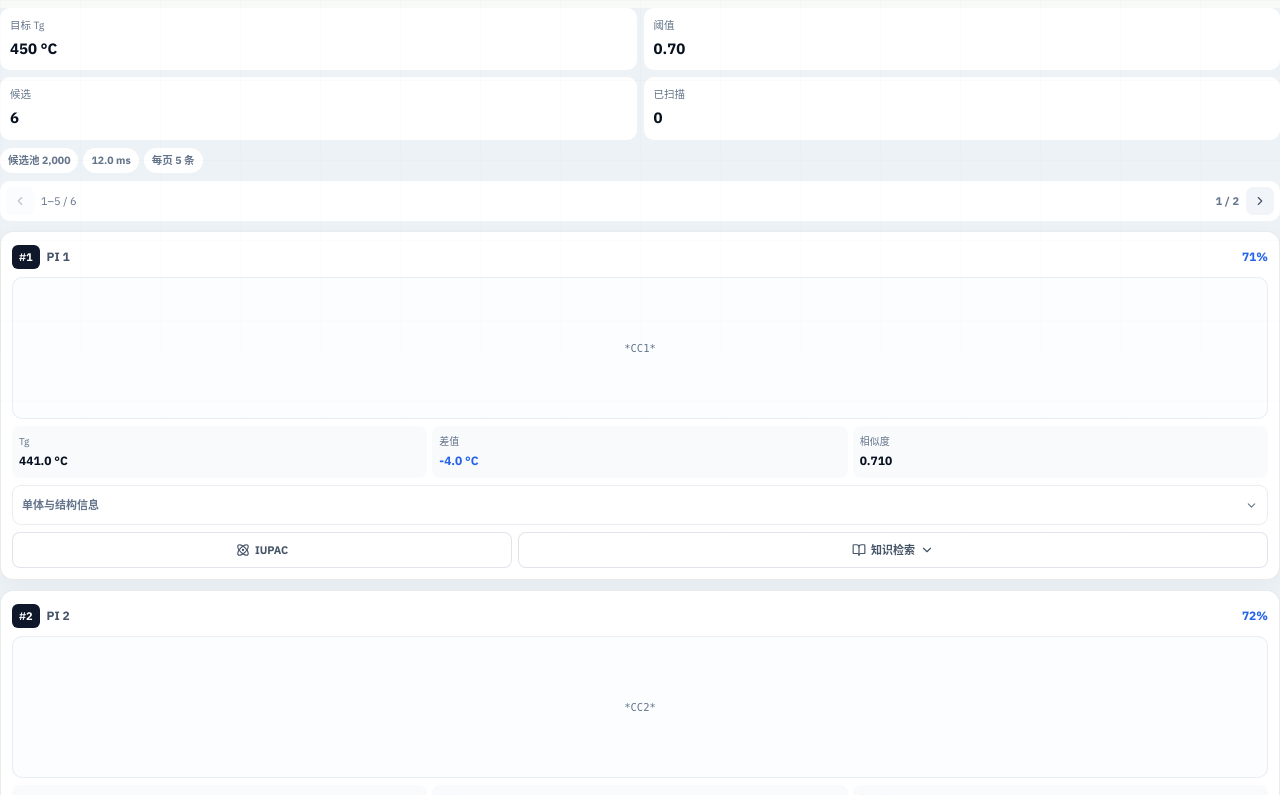
ReverseDesignResults drawer content › shows exactly five candidates per page and supports paging
Expected: the text "PI 1" is shown, [47,248,70,266]
Expected: the text "PI 6" is not shown
Click the button named "下一页" at (1260, 201), box [1246,187,1274,215]
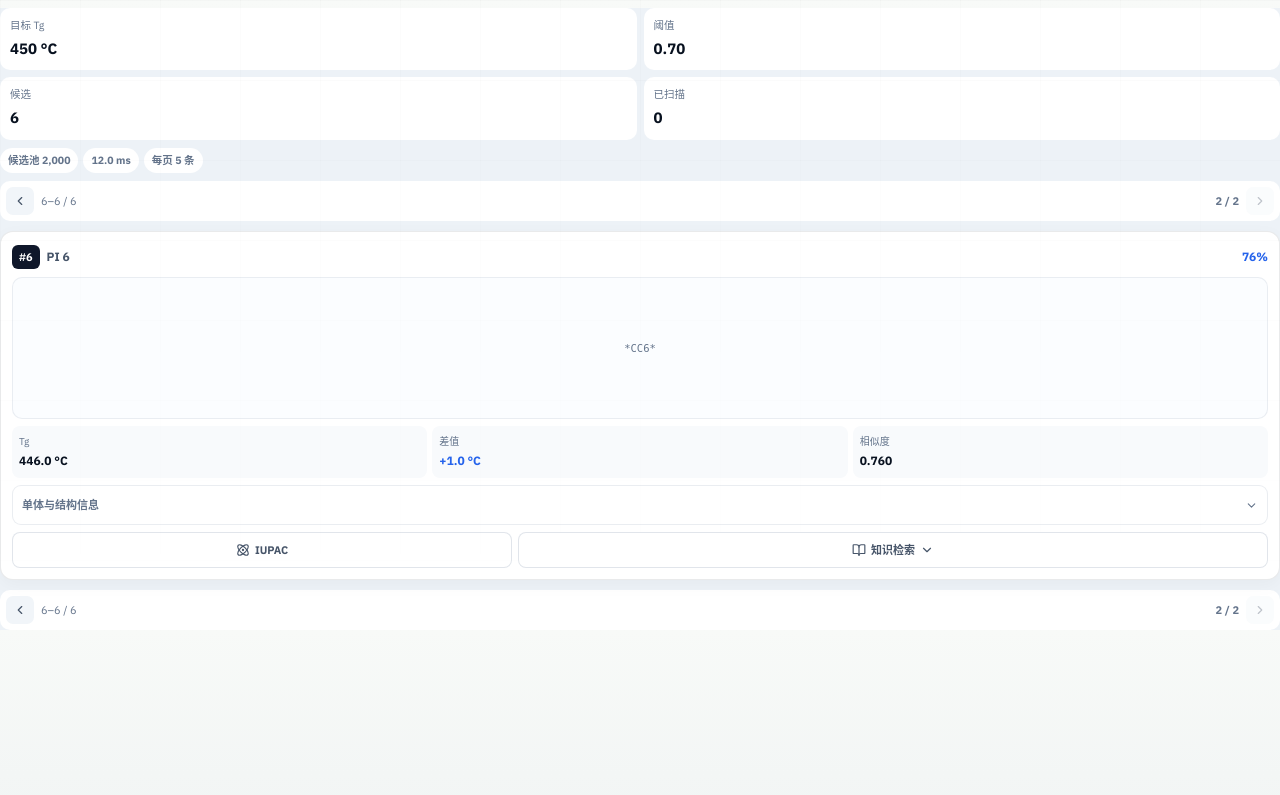
Now the text "PI 6" is shown once, box [47,248,70,266]
